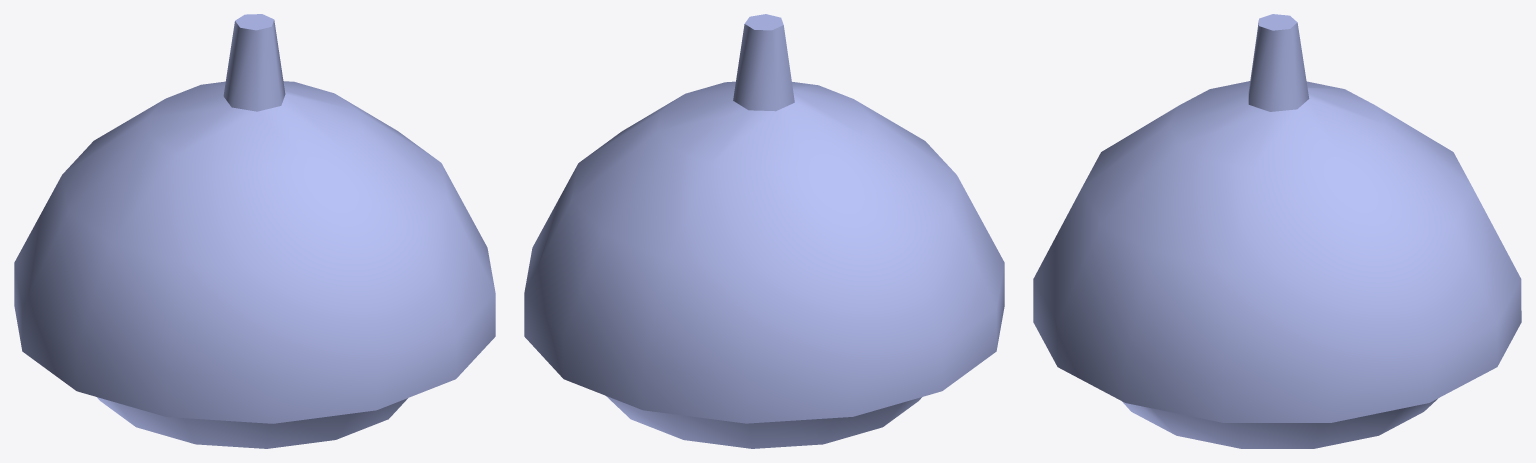
Rendered from light01a_on.fbx.
3 views of the same model, side by side, from view 1: azimuth 30°, elevation 25°; view 2: azimuth 150°, elevation 25°; view 3: azimuth 270°, elevation 25° (orthographic).
Visible parts, largest first — view 1: light01a_on_reference; view 2: light01a_on_reference; view 3: light01a_on_reference.
Part boxes in pixels (bbox=[...]): light01a_on_reference: bbox=[14, 14, 495, 448]; light01a_on_reference: bbox=[524, 14, 1004, 448]; light01a_on_reference: bbox=[1033, 14, 1521, 448].
Bounding box in the file's own units: 1987 × 1835 × 2040.
